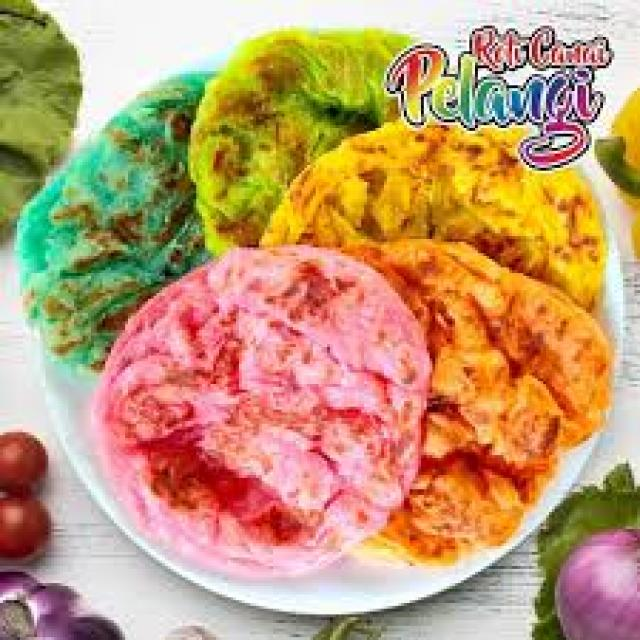Paratha: (128, 258, 418, 568), (302, 102, 584, 313), (27, 56, 230, 345)
